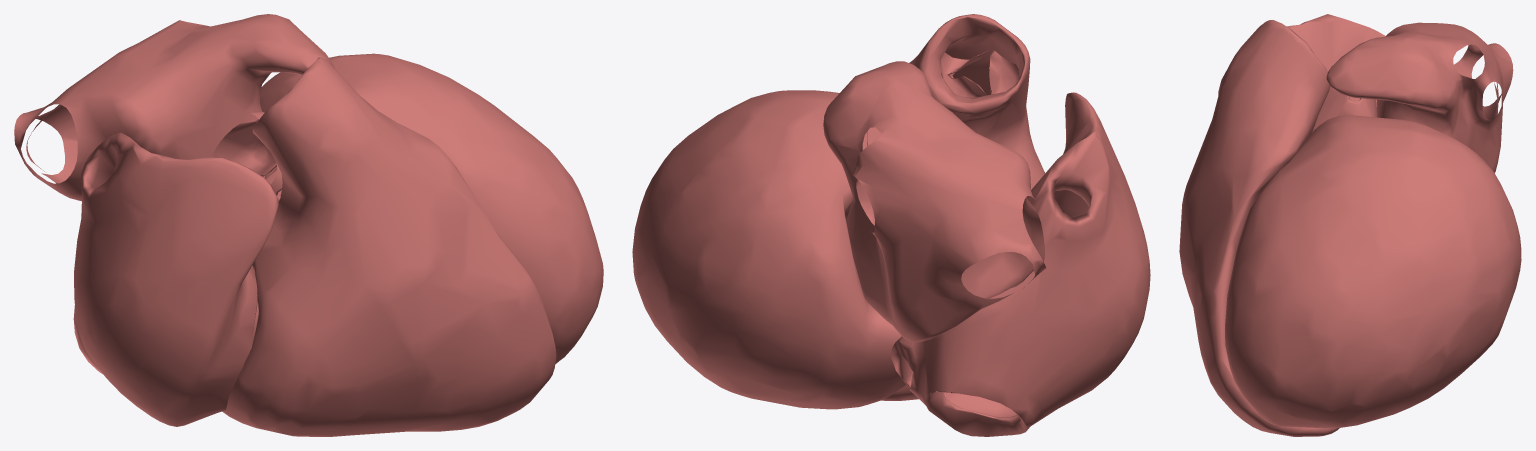
Rendered from heart-female.lod1.glb.
3 renders of one model, left to right at view 1: azimuth 30°, elevation 25°; view 2: azimuth 150°, elevation 25°; view 3: azimuth 270°, elevation 25°, orthographic. The views are drawn at different scales.
Visible parts, largest first — view 1: VH_F_right_ventricle, VH_F_right_cardiac_atrium, VH_F_left_ventricle, VH_F_left_cardiac_atrium, VH_F_aortic_valve; view 2: VH_F_left_ventricle, VH_F_right_cardiac_atrium, VH_F_left_cardiac_atrium, VH_F_right_ventricle, VH_F_pulmonary_valve; view 3: VH_F_left_ventricle, VH_F_right_ventricle, VH_F_left_cardiac_atrium, VH_F_right_cardiac_atrium, VH_F_aortic_valve.
Part boxes in pixels (<box>): VH_F_right_ventricle: <box>222,57,556,436</box>; VH_F_right_cardiac_atrium: <box>73,132,278,426</box>; VH_F_left_ventricle: <box>260,53,603,363</box>; VH_F_left_cardiac_atrium: <box>14,14,334,201</box>; VH_F_aortic_valve: <box>211,111,282,202</box>; VH_F_left_ventricle: <box>632,90,906,409</box>; VH_F_right_cardiac_atrium: <box>890,92,1150,436</box>; VH_F_left_cardiac_atrium: <box>823,61,1045,342</box>; VH_F_right_ventricle: <box>881,14,1045,400</box>; VH_F_pulmonary_valve: <box>941,50,1019,97</box>; VH_F_left_ventricle: <box>1225,115,1521,428</box>; VH_F_right_ventricle: <box>1179,20,1339,436</box>; VH_F_left_cardiac_atrium: <box>1326,22,1513,172</box>; VH_F_right_cardiac_atrium: <box>1218,14,1385,106</box>; VH_F_aortic_valve: <box>1312,86,1377,132</box>.
Bounding box in the file's own units: 0.1425 × 0.1099 × 0.1014.
